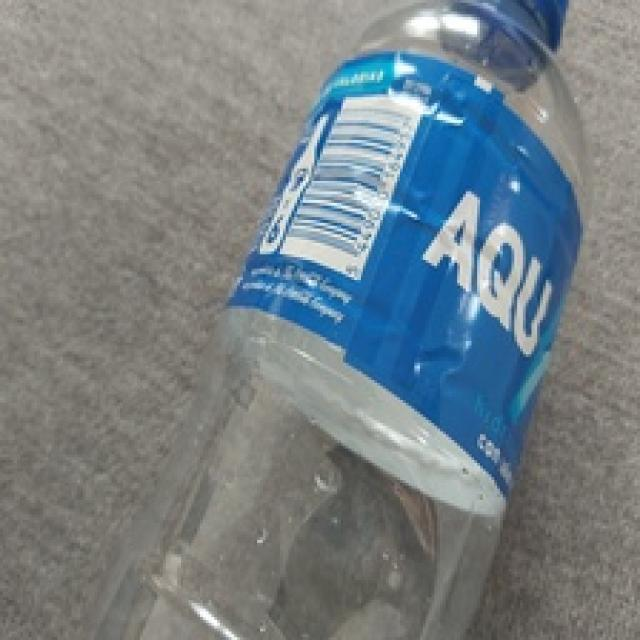Plastic: (86, 0, 590, 640)
